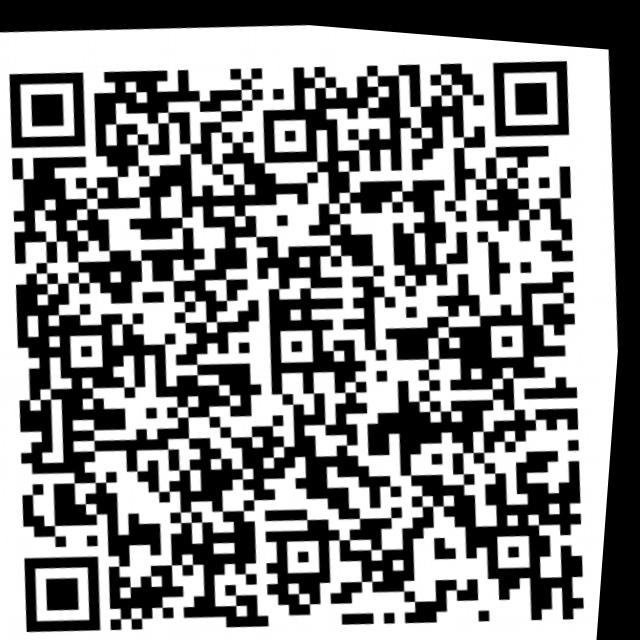QR_CODE: (0, 3, 637, 640)
